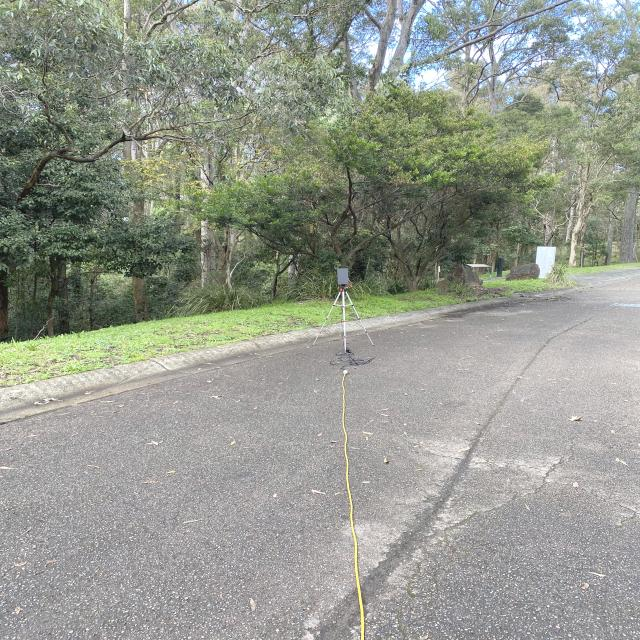matrix: (331, 266, 357, 288)
